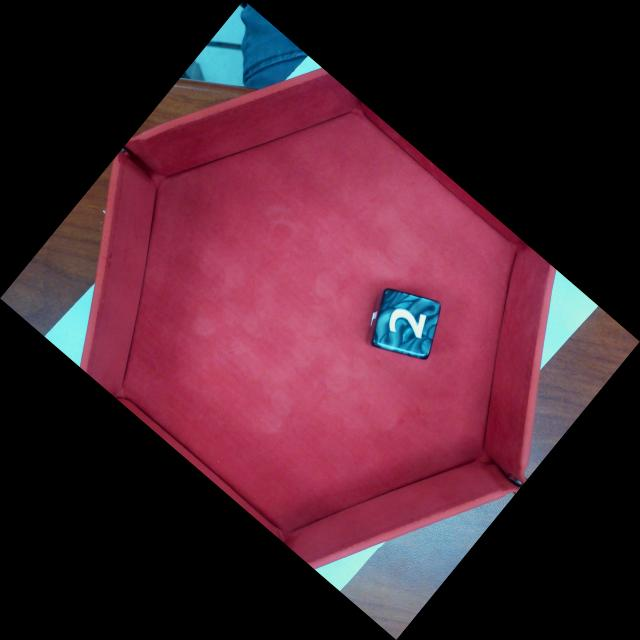dice: (368, 286, 443, 363)
